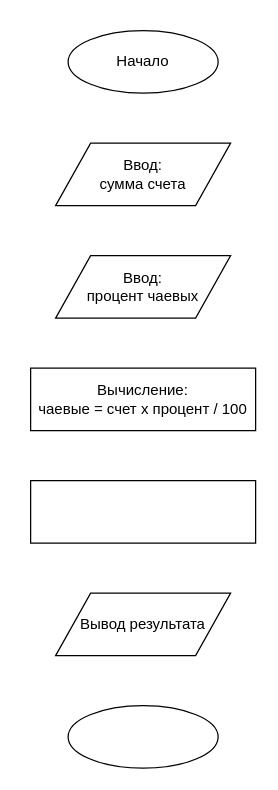
The diagram is 278 pixels wide and 790 high, and some of its shapes have lost their labels. Here are the shapes that lost their labels. From the top down, the centre of each, then its label:
At [142,511]: "Вычисление: итого = счет + чаевые".
At [142,736]: "Конец".
